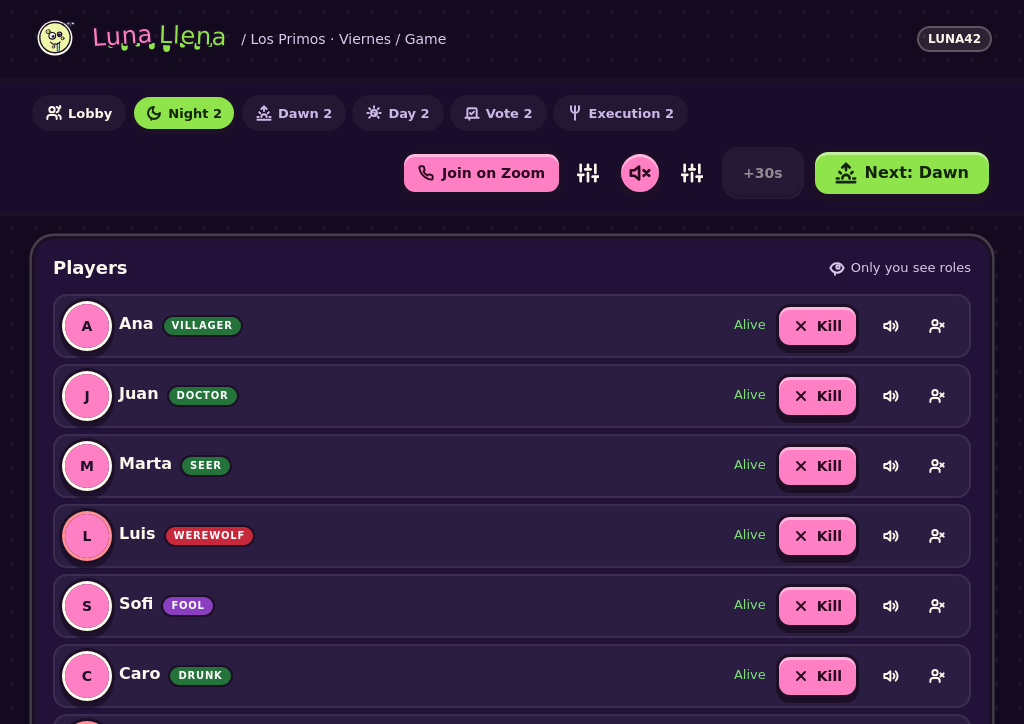
Test: NarratorDashboard voice call › keeps the editor open and explains a rejected link
Click the button named "Change the call": (588, 173) [566, 151, 610, 195]
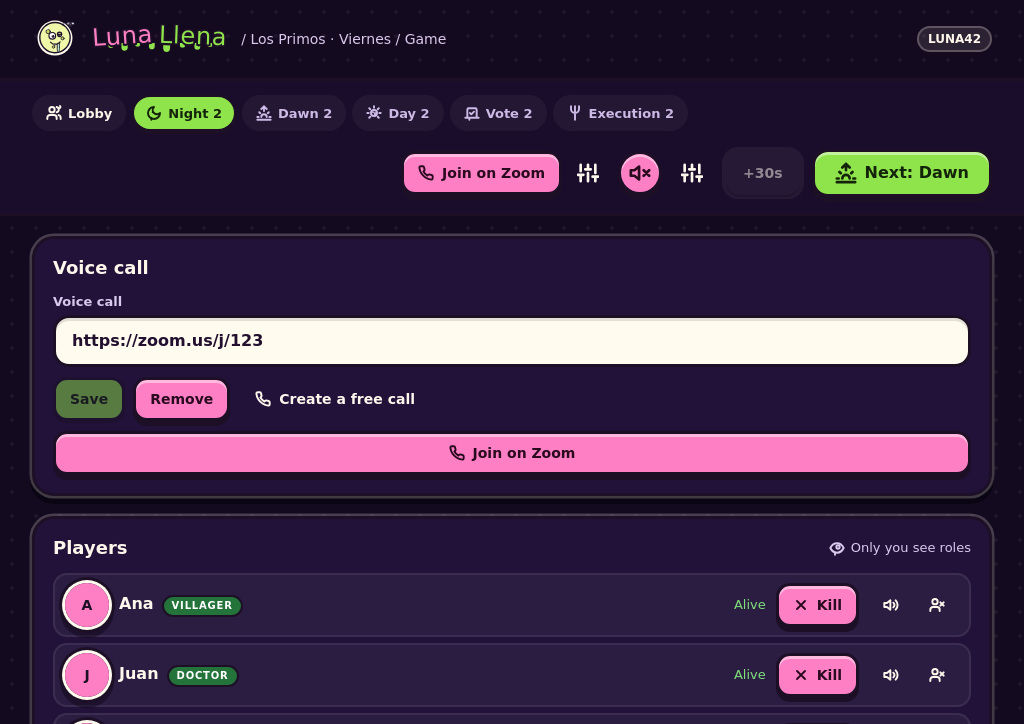
Replace the text in the field labelled "Voice call" with "nope": (512, 340) [53, 314, 971, 366]
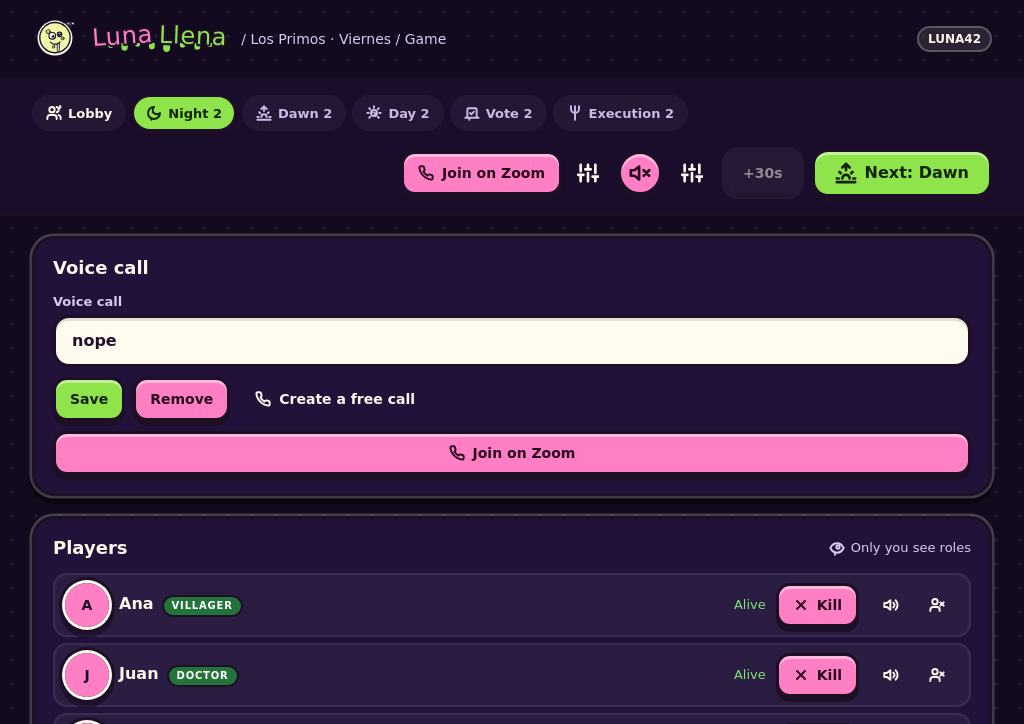
Submit the form, box [53, 294, 971, 474]
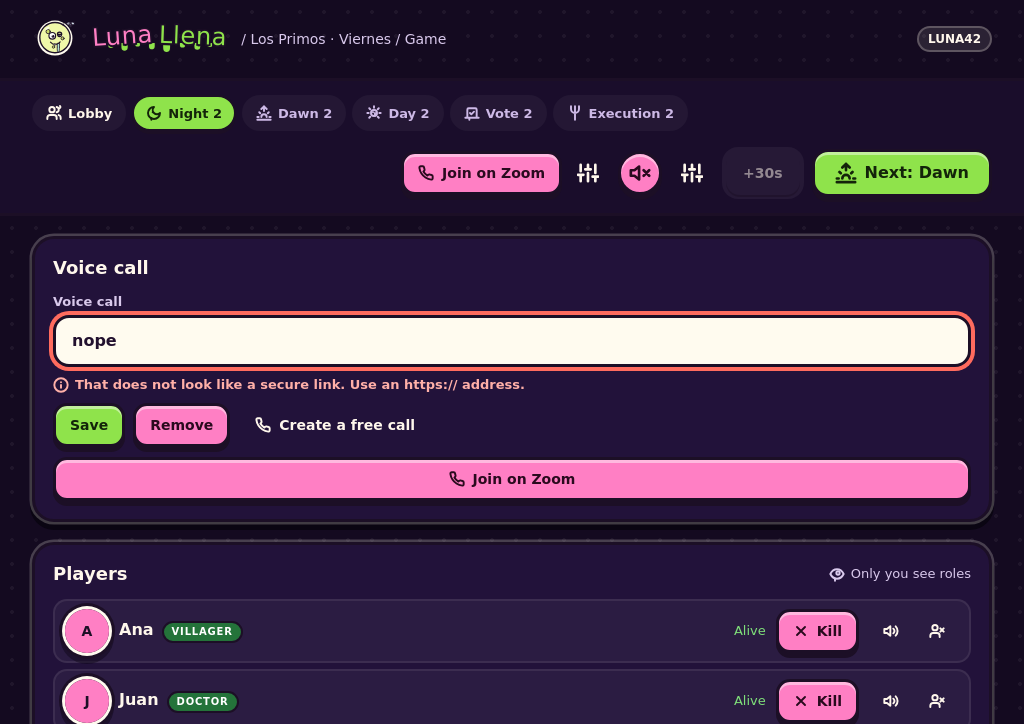
Expected: the message "That does not look like a secure link. Use an https:// address." is shown, [53, 376, 525, 392]
